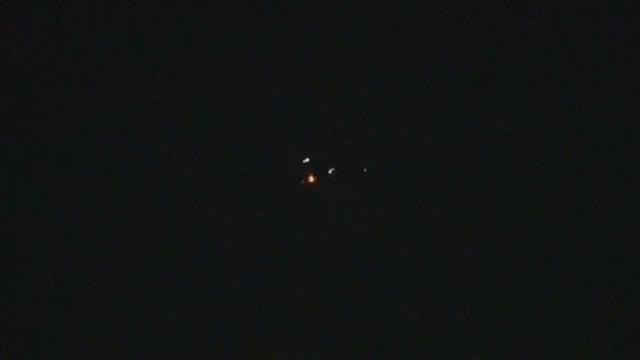Plane: (275, 148, 346, 197)
